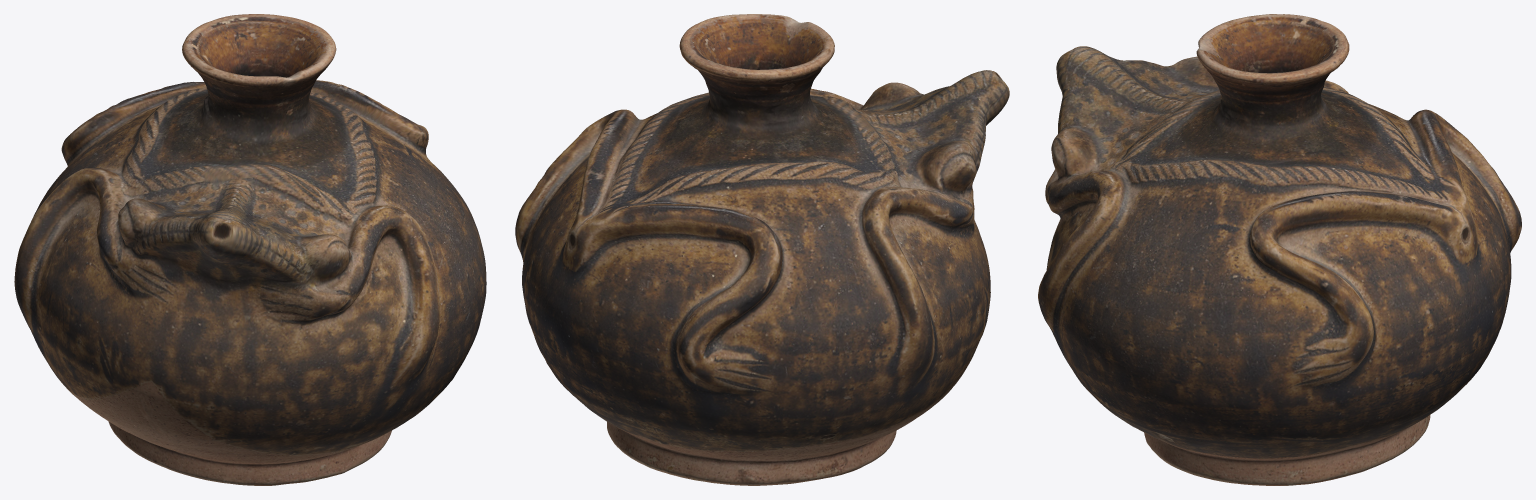
Rendered from obj_vessel_with_frog_motif_1st_c_e0c549.glb.
3 views of the same model, side by side, from view 1: azimuth 30°, elevation 25°; view 2: azimuth 150°, elevation 25°; view 3: azimuth 270°, elevation 25° (orthographic).
Visible parts, largest first — view 1: obj_vessel_with_frog_motif_1st_c_e0c549; view 2: obj_vessel_with_frog_motif_1st_c_e0c549; view 3: obj_vessel_with_frog_motif_1st_c_e0c549.
Part boxes in pixels (bbox=[...]): obj_vessel_with_frog_motif_1st_c_e0c549: bbox=[14, 14, 486, 485]; obj_vessel_with_frog_motif_1st_c_e0c549: bbox=[515, 14, 1009, 485]; obj_vessel_with_frog_motif_1st_c_e0c549: bbox=[1038, 14, 1521, 485].
Bounding box in the file's own units: 0.3252 × 0.3 × 0.3342.
Materials: 1 (1 with a texture image).
